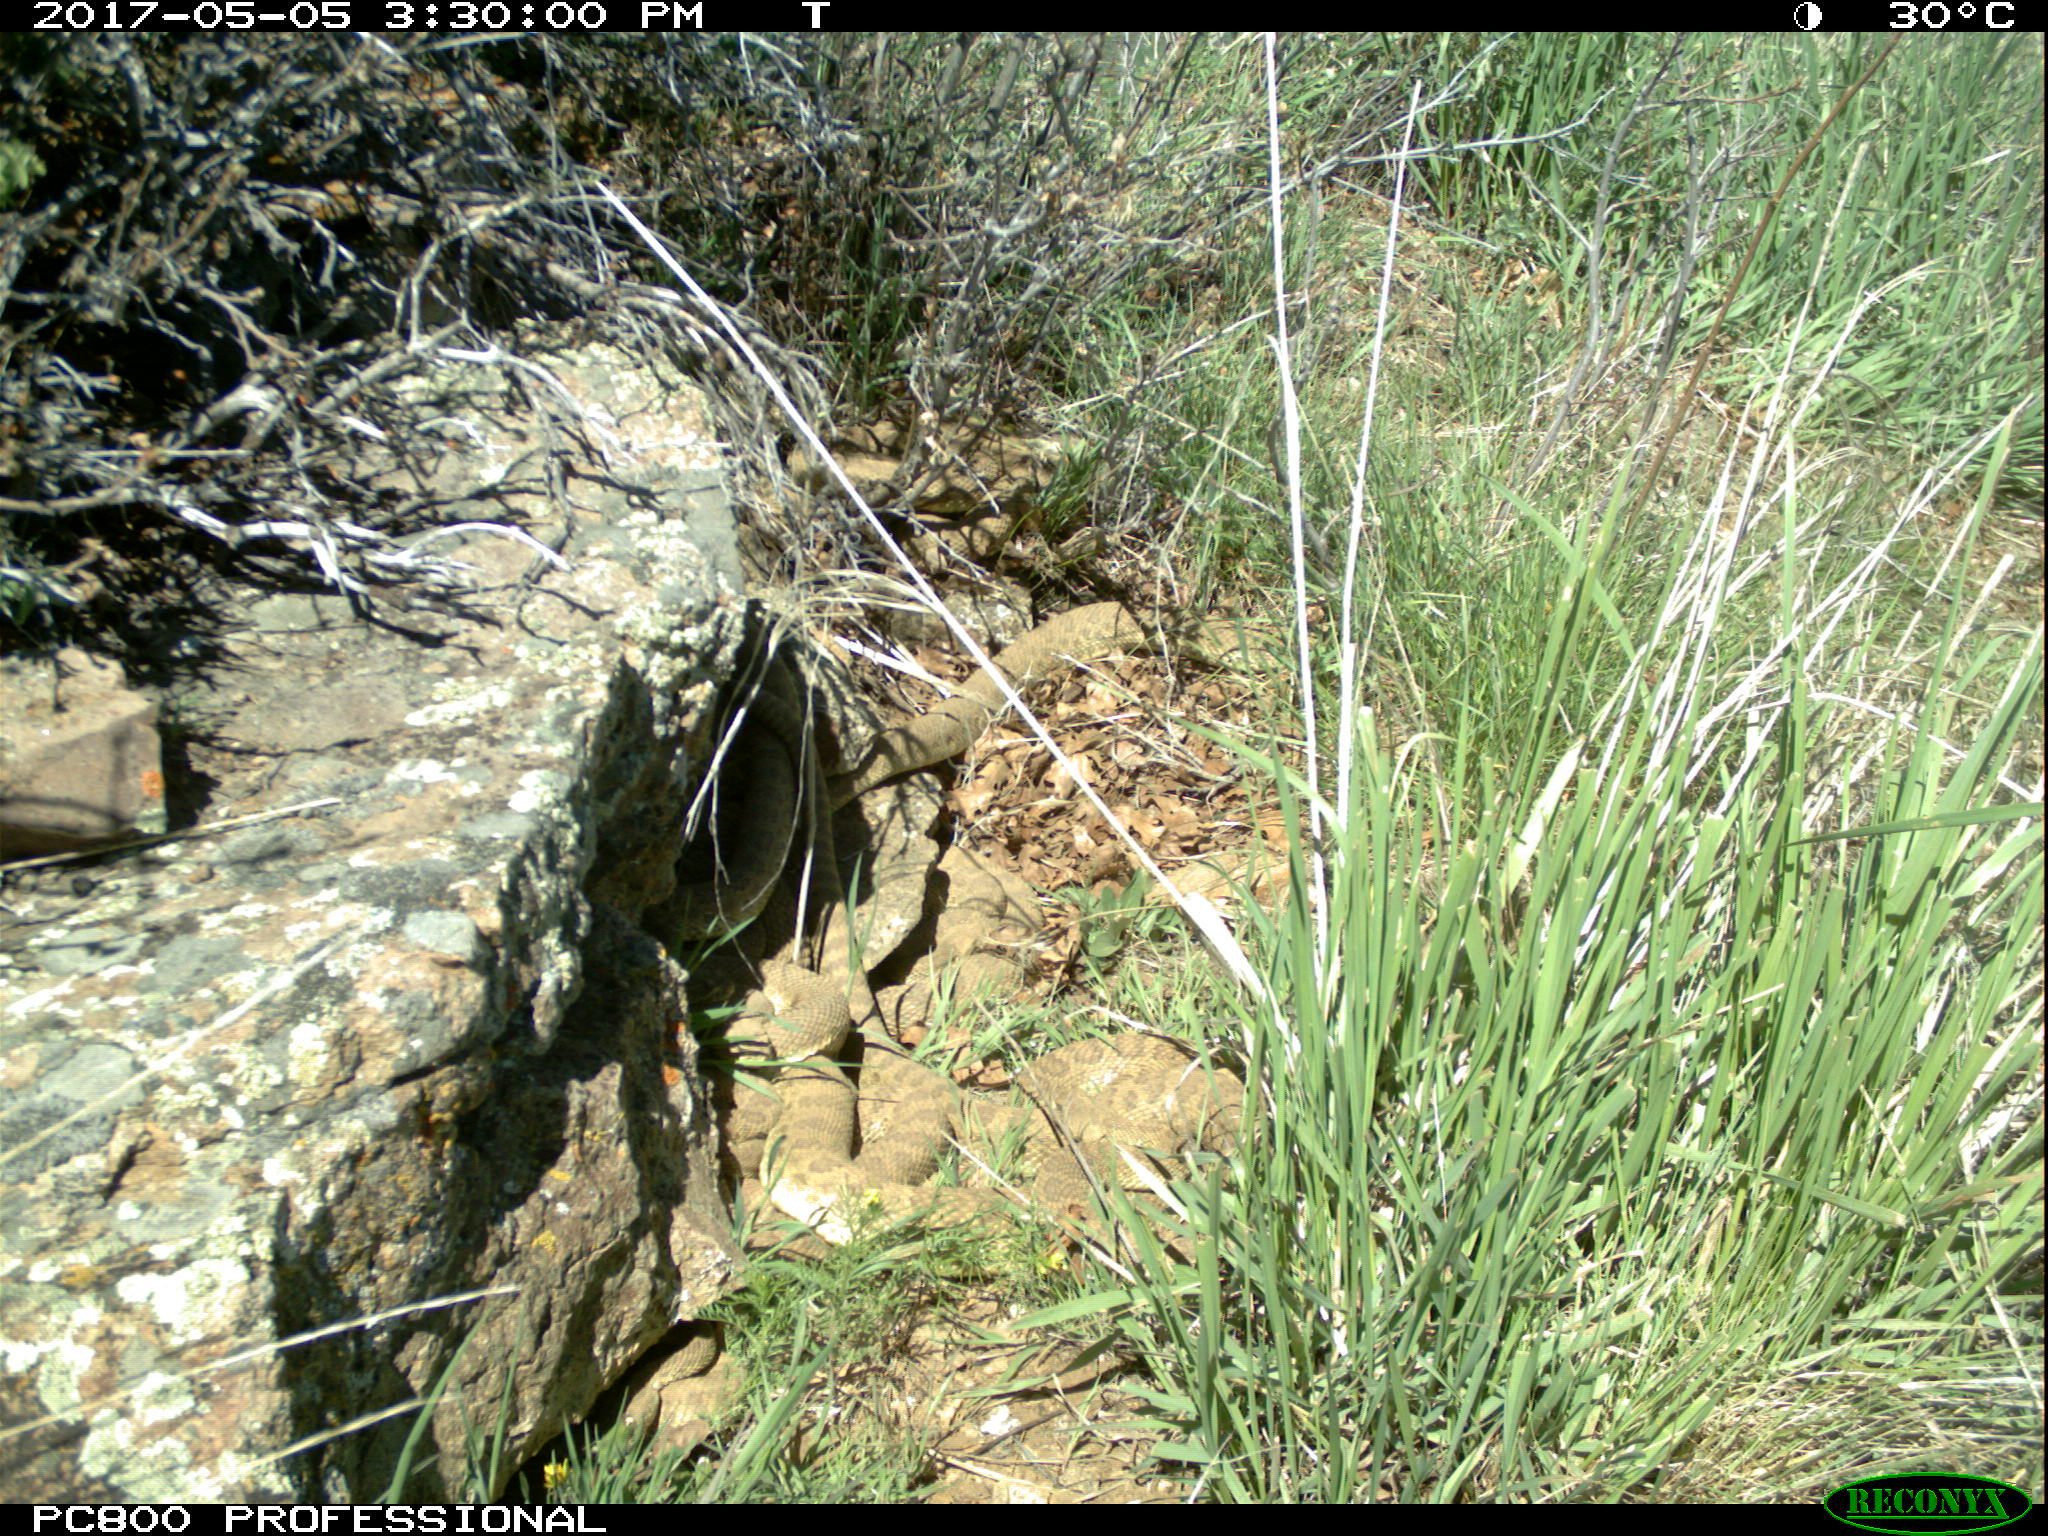snake: (764, 1033, 1280, 1247), (834, 597, 1176, 800), (698, 908, 858, 1066), (601, 1325, 756, 1480), (876, 507, 1035, 574)
